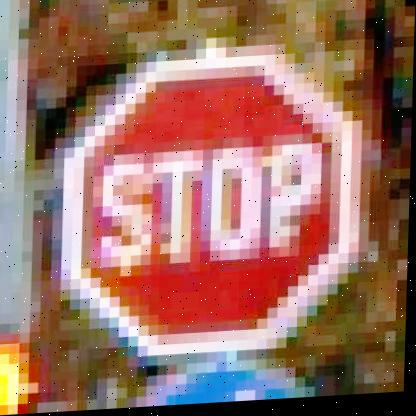Stop Sign: (61, 48, 371, 366)
